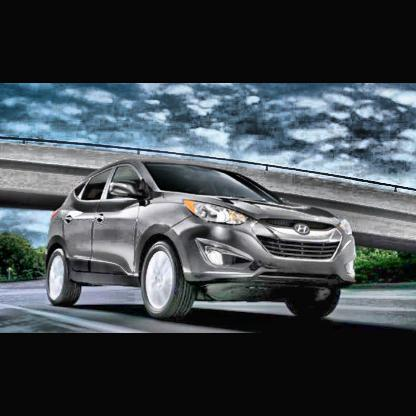Hyundai Tucson SUV 2012: (47, 157, 358, 319)
